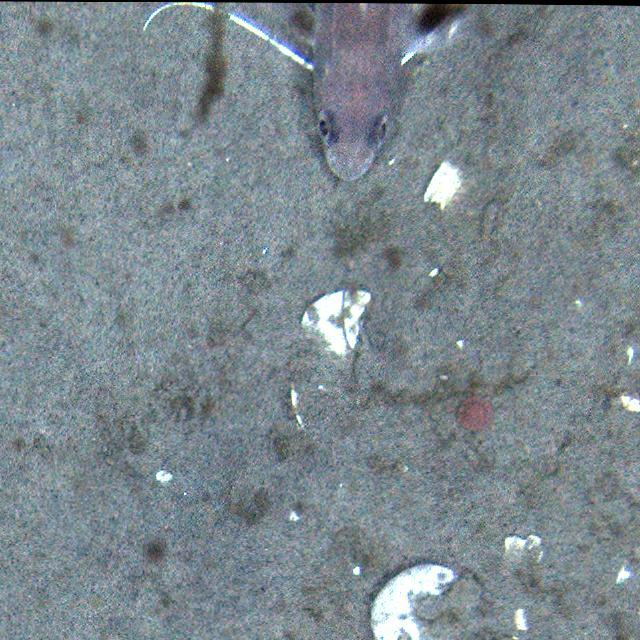roundfish: (140, 2, 488, 181)
